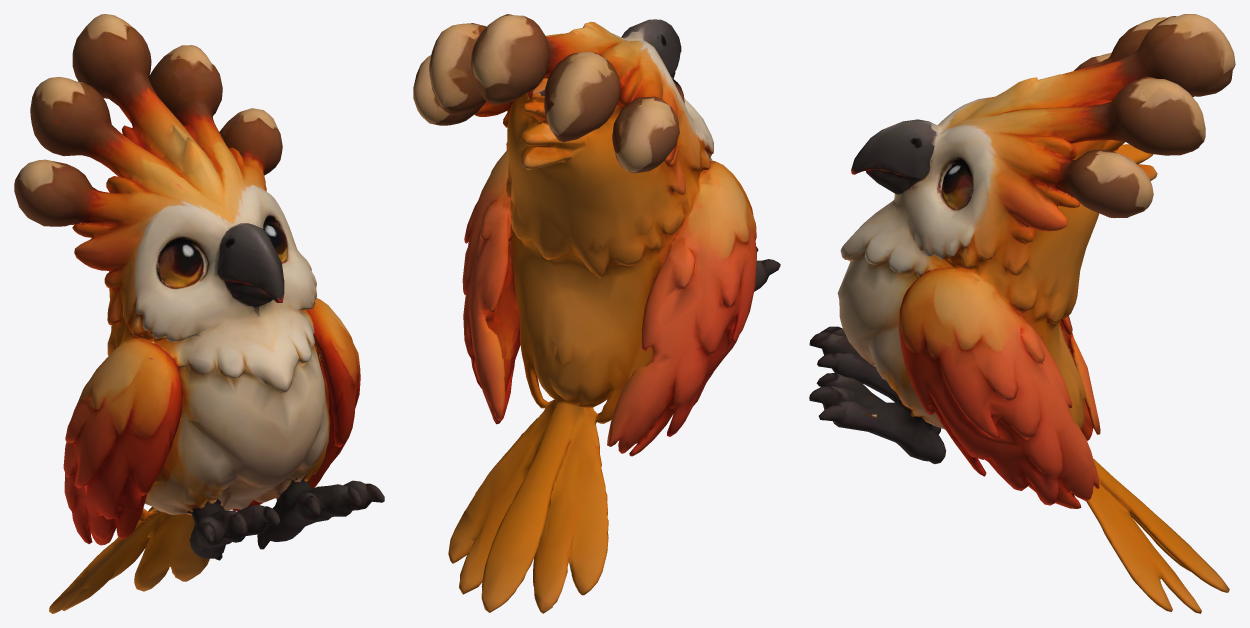
Rendered from kukubara.glb.
3 renders of one model, left to right at view 1: azimuth 30°, elevation 25°; view 2: azimuth 150°, elevation 25°; view 3: azimuth 270°, elevation 25°, orthographic.
Parts seen in each view (by area): view 1: textured_mesh.obj; view 2: textured_mesh.obj; view 3: textured_mesh.obj.
Part boxes in pixels (bbox=[...]): textured_mesh.obj: bbox=[14, 14, 384, 613]; textured_mesh.obj: bbox=[413, 14, 780, 613]; textured_mesh.obj: bbox=[809, 14, 1235, 613].
Bounding box in the file's own units: 0.387 × 0.8006 × 0.5334.
Materials: 1 (1 with a texture image).
